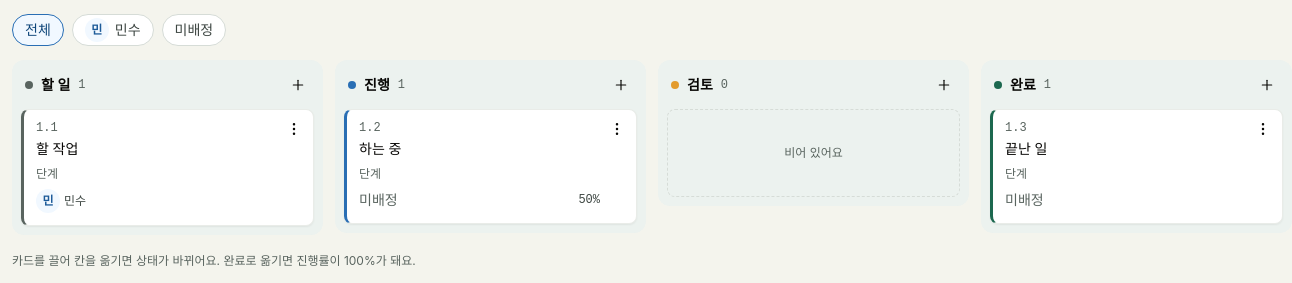
Scenario: 칸반 › 담당자로 거른다
Expected: the text "할 작업" is shown, top-left (36, 140), bottom-right (78, 157)
Step 1. Click the button "민 민수" → (113, 30), box top-left (72, 14), bottom-right (154, 46)
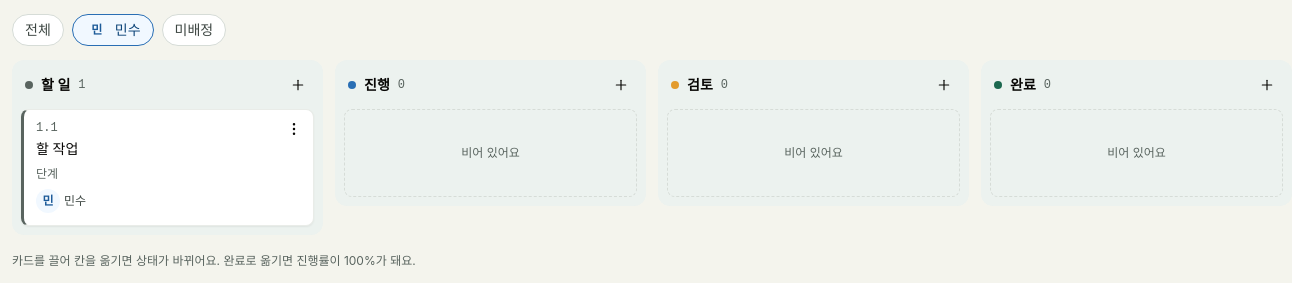
Expected: the text "할 작업" is shown, top-left (36, 140), bottom-right (78, 157)
Expected: the button "하는 중" is gone
